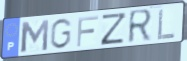F: (76, 15, 100, 48)
G: (49, 17, 74, 50)
L: (156, 7, 177, 42)
M: (20, 18, 51, 54)
R: (127, 8, 155, 46)
Z: (100, 11, 129, 47)
